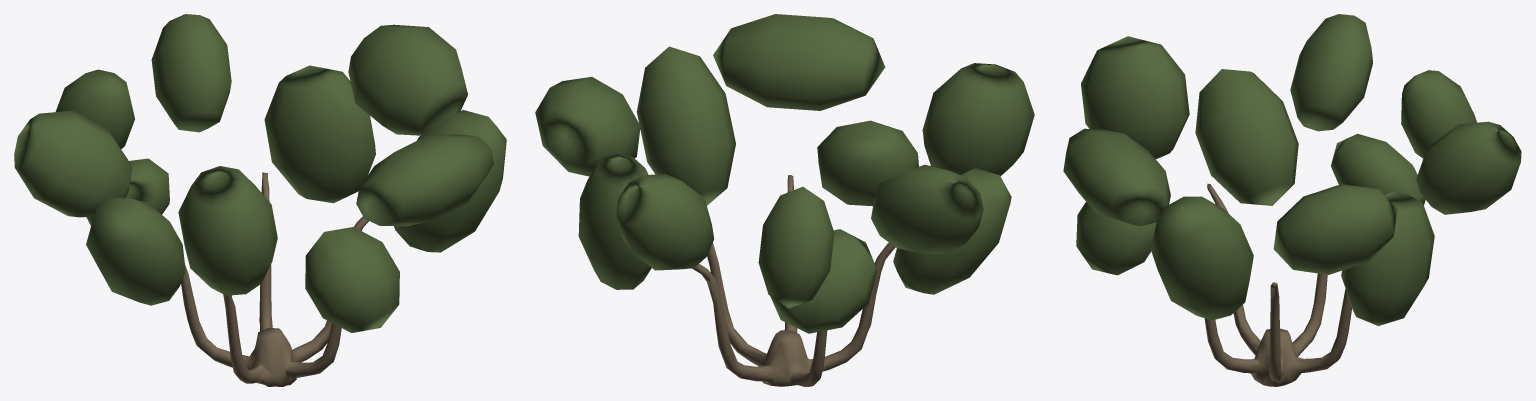
File: Lentisque_0_Niveau2.fbx
The picture shows the model from 3 angles, left to right: view 1: azimuth 30°, elevation 25°; view 2: azimuth 150°, elevation 25°; view 3: azimuth 270°, elevation 25°; orthographic projection. The views are drawn at different scales.
Visible parts, largest first — view 1: Lentisque_0_Niveau2_Jeu; view 2: Lentisque_0_Niveau2_Jeu; view 3: Lentisque_0_Niveau2_Jeu.
Part boxes in pixels (x1=…): Lentisque_0_Niveau2_Jeu: x1=14, y1=14, x2=506, y2=386; Lentisque_0_Niveau2_Jeu: x1=535, y1=14, x2=1034, y2=386; Lentisque_0_Niveau2_Jeu: x1=1063, y1=14, x2=1521, y2=386.
Bounding box in the file's own units: 150 × 95.4 × 142.
